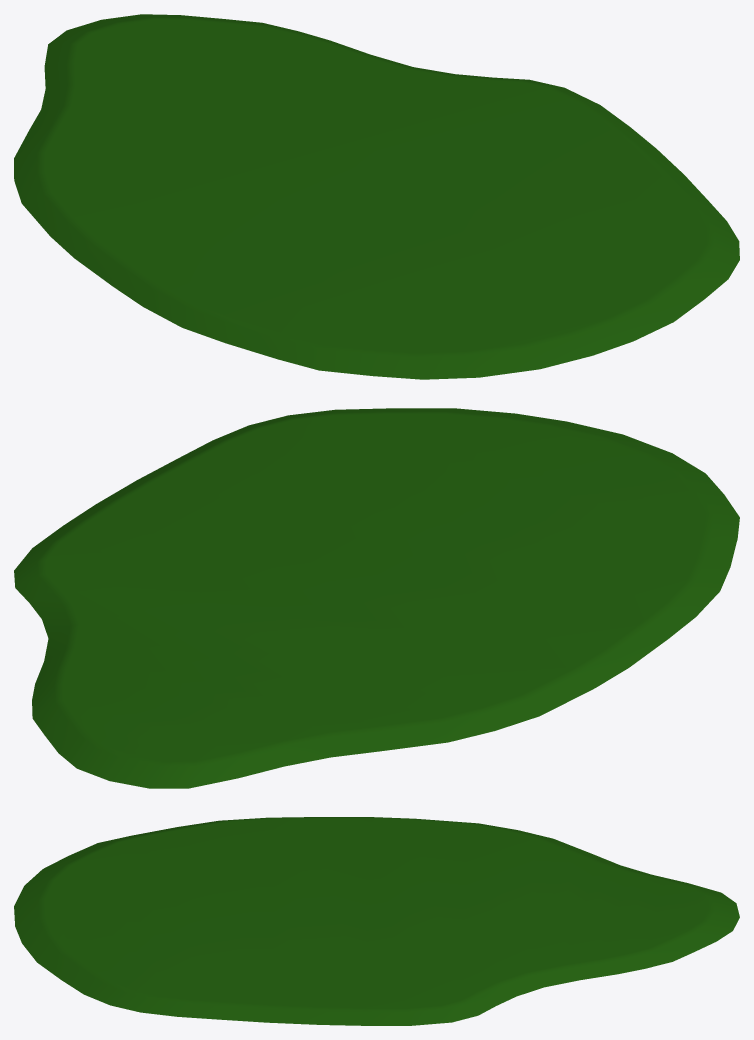
The model's file is GroundPadding01_3.fbx.
The picture shows the model from 3 angles, top to bottom: view 1: azimuth 30°, elevation 25°; view 2: azimuth 150°, elevation 25°; view 3: azimuth 270°, elevation 25°; orthographic projection. The views are drawn at different scales.
Visible parts, largest first — view 1: LOD0; view 2: LOD0; view 3: LOD0.
Boxes of the visible parts, x1,y1,x2,y2 form: LOD0: (14,14,739,379); LOD0: (14,408,739,788); LOD0: (14,817,739,1025).
Size of what is drawn, in the model's own units: 1153 by 1693 by 20.6.
1 material, 1 textured.
